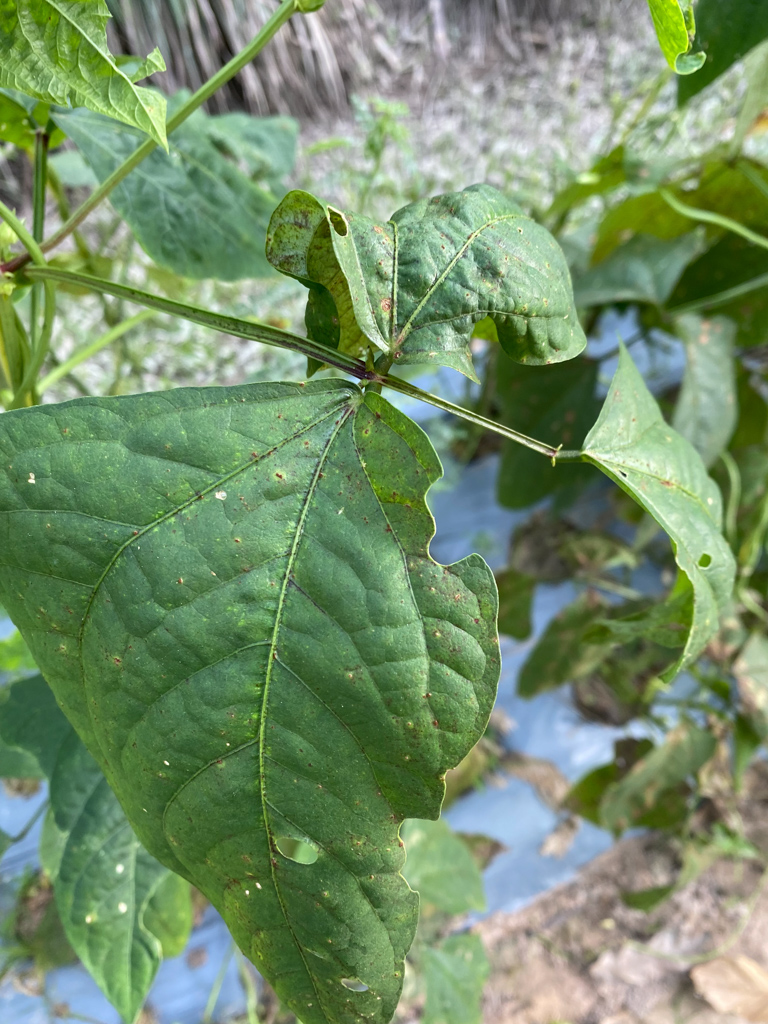Rust: (186, 739, 417, 1017), (257, 402, 495, 656), (266, 187, 586, 365)
